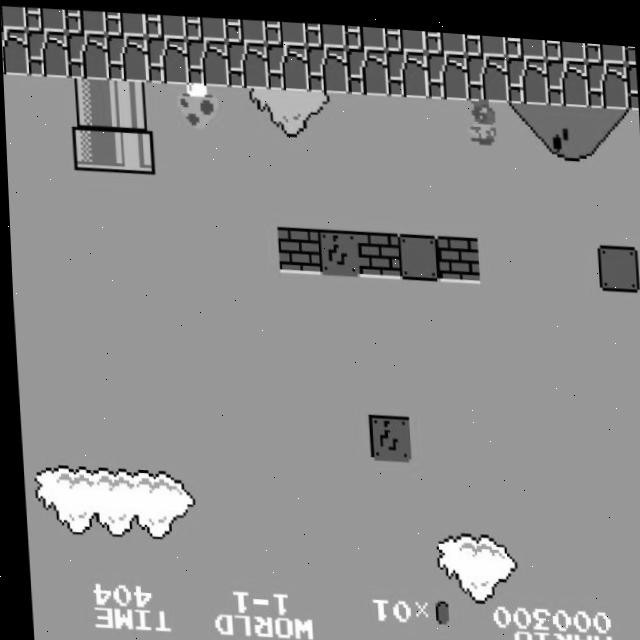1- brick_block: (435, 227, 478, 277), (355, 224, 398, 274), (275, 221, 318, 271)
11- little_mario: (460, 89, 506, 141)
12- mushroom: (175, 77, 221, 130)
13- mystery_block: (364, 408, 408, 456), (315, 223, 358, 272)
14- pipe: (107, 78, 151, 127), (68, 76, 111, 125)
15- pipe_head: (110, 123, 154, 173), (70, 121, 114, 171)
17- undestructible_block: (25, 28, 69, 78), (105, 32, 149, 81), (65, 30, 109, 79), (545, 49, 588, 99), (585, 51, 628, 100), (505, 48, 548, 97), (465, 46, 508, 95), (425, 45, 468, 94), (385, 43, 428, 92), (345, 41, 388, 90), (305, 40, 348, 89), (265, 38, 308, 87), (225, 37, 268, 86), (185, 35, 228, 84), (145, 33, 188, 82), (1, 27, 29, 76), (264, 15, 306, 42), (184, 12, 226, 39), (144, 10, 186, 37), (64, 7, 106, 34), (224, 14, 266, 40), (104, 9, 146, 35), (24, 6, 66, 32), (384, 22, 426, 47), (304, 18, 346, 43), (344, 20, 386, 44), (504, 29, 546, 52), (424, 25, 466, 48), (464, 27, 506, 49), (544, 32, 586, 53), (584, 34, 626, 54), (0, 5, 25, 30), (625, 54, 638, 101), (624, 36, 635, 54)
3- empty_block: (594, 234, 638, 284), (395, 226, 438, 276)
